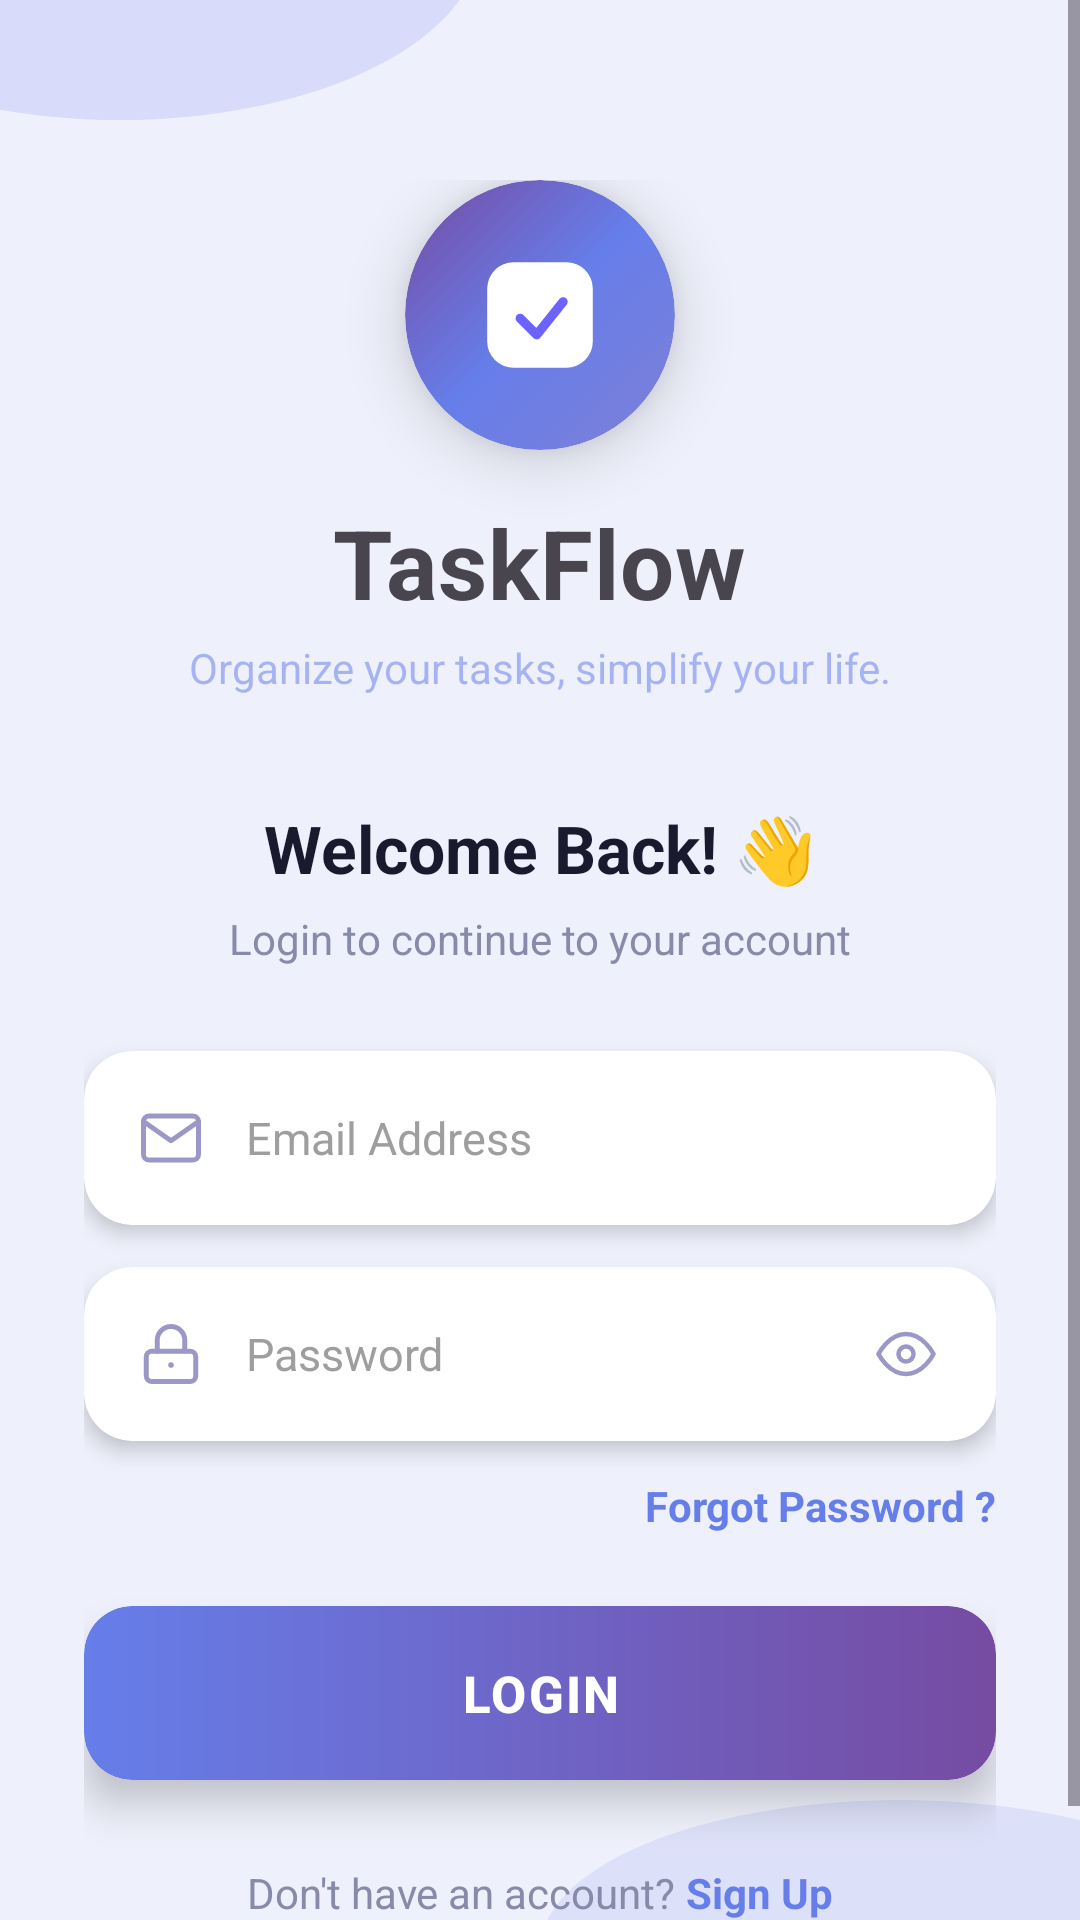

Where icons sit on this 1080x1920 app screen, as detection(x1, y1, x2, y2):
Lock icon: detection(143, 1324, 199, 1384)
